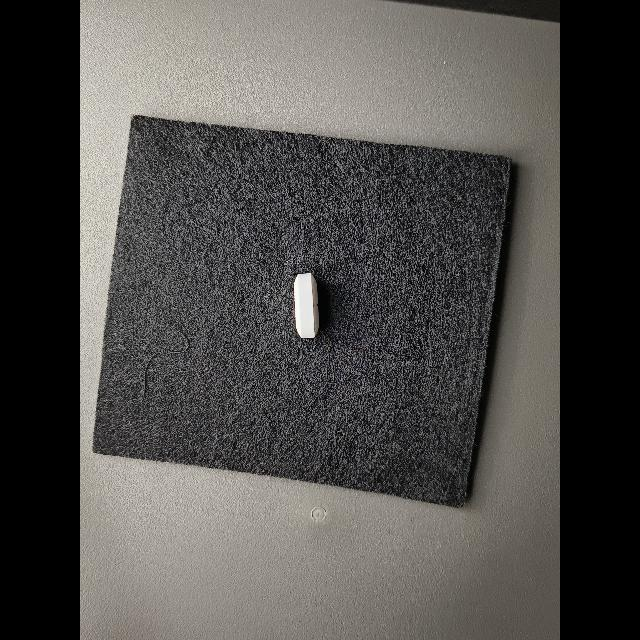Intact Pill: (294, 273, 319, 338)
